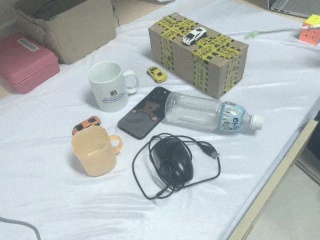bottle: (162, 90, 264, 137)
box: (149, 11, 248, 100), (15, 1, 118, 65), (1, 34, 60, 96)
cup: (86, 60, 140, 113), (70, 126, 124, 177)
mouse: (150, 135, 195, 189)
phone: (115, 85, 175, 139)
toy_car: (70, 116, 106, 133), (146, 65, 167, 84)
